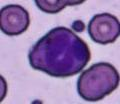E: (28, 26, 91, 76)
